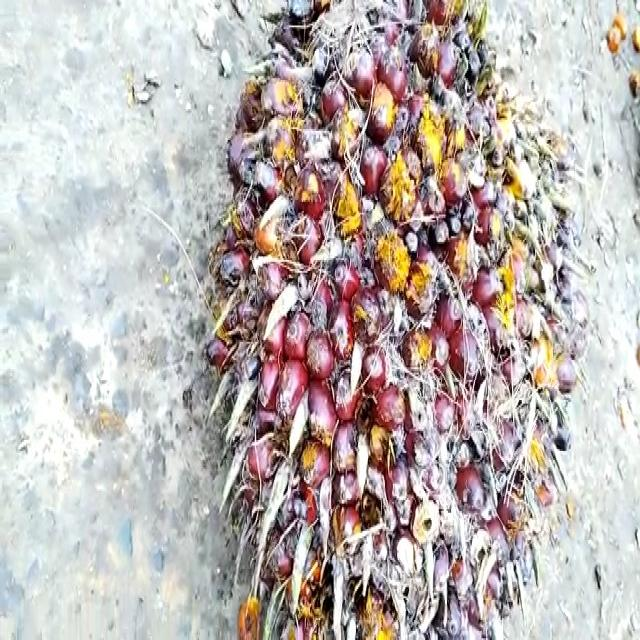palm oil: (202, 0, 573, 640)
